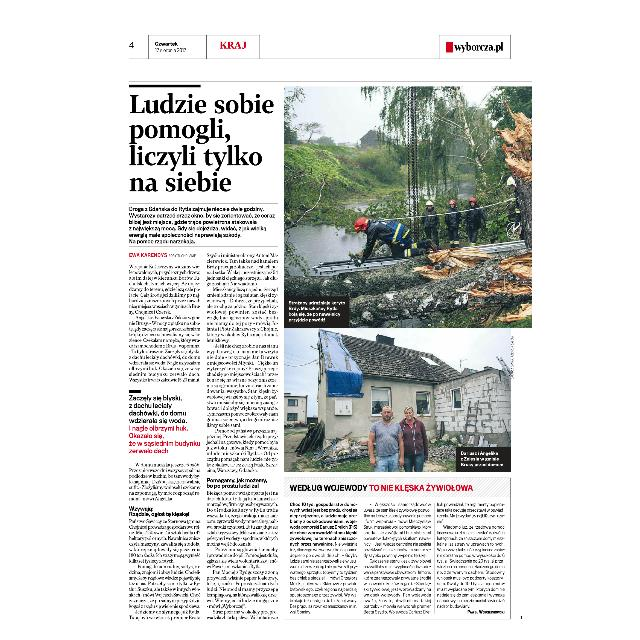article: (127, 80, 535, 624)
